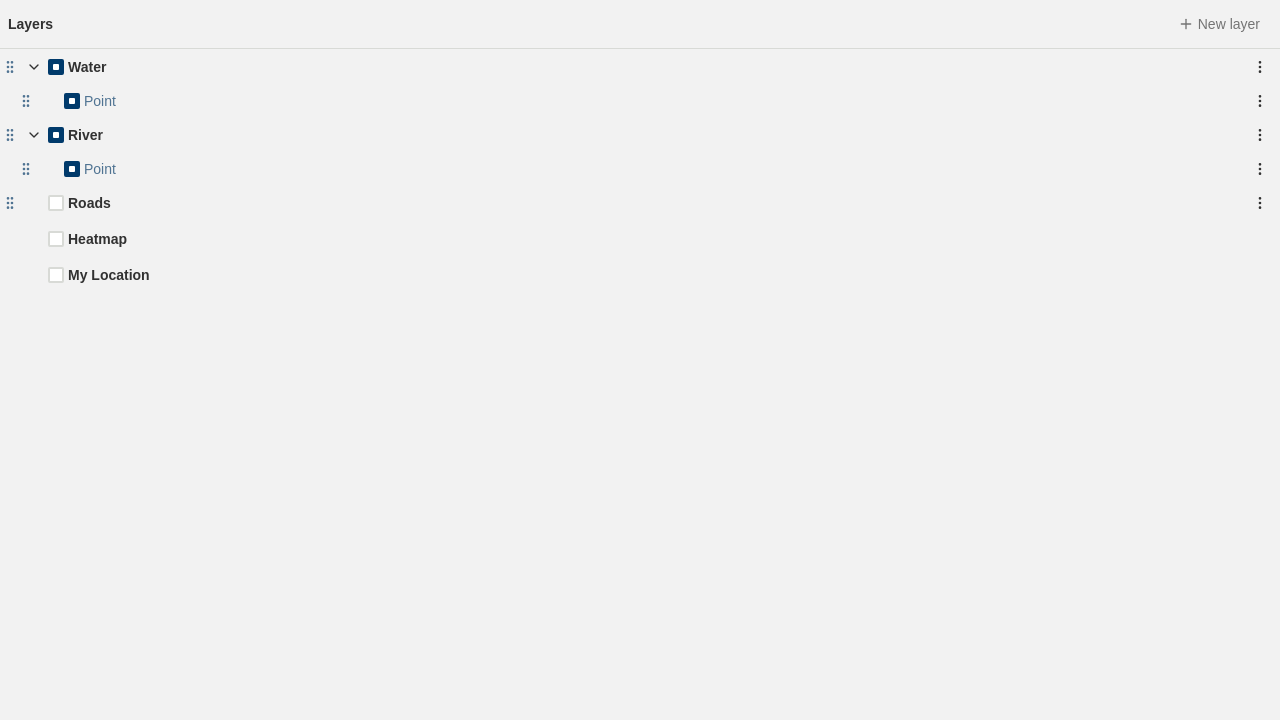
it: LayerTreePanel › excludes every layer the feature already belongs to from the move-to-layer picker
Click the 1st button named "feature options". click: point(1260, 101)
box: [1248,89,1272,113]
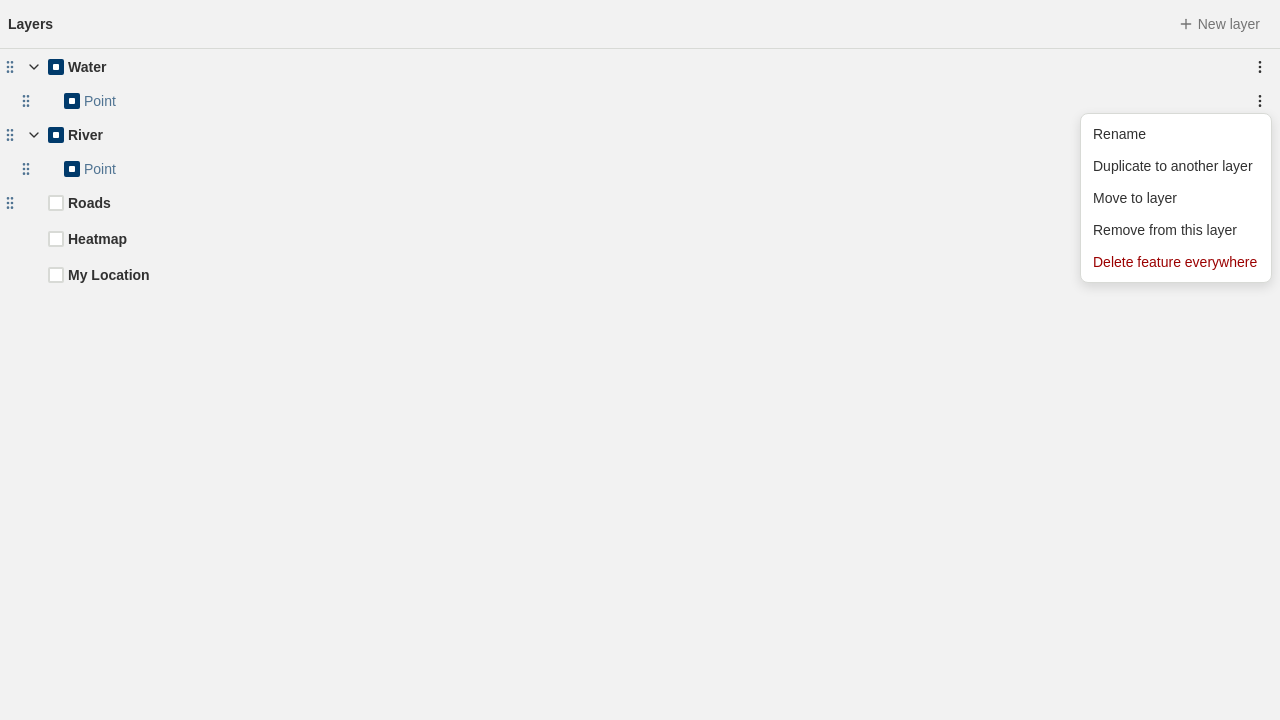
Click the menu item "Move to layer". click: point(1135, 198)
box: [1093,190,1177,206]
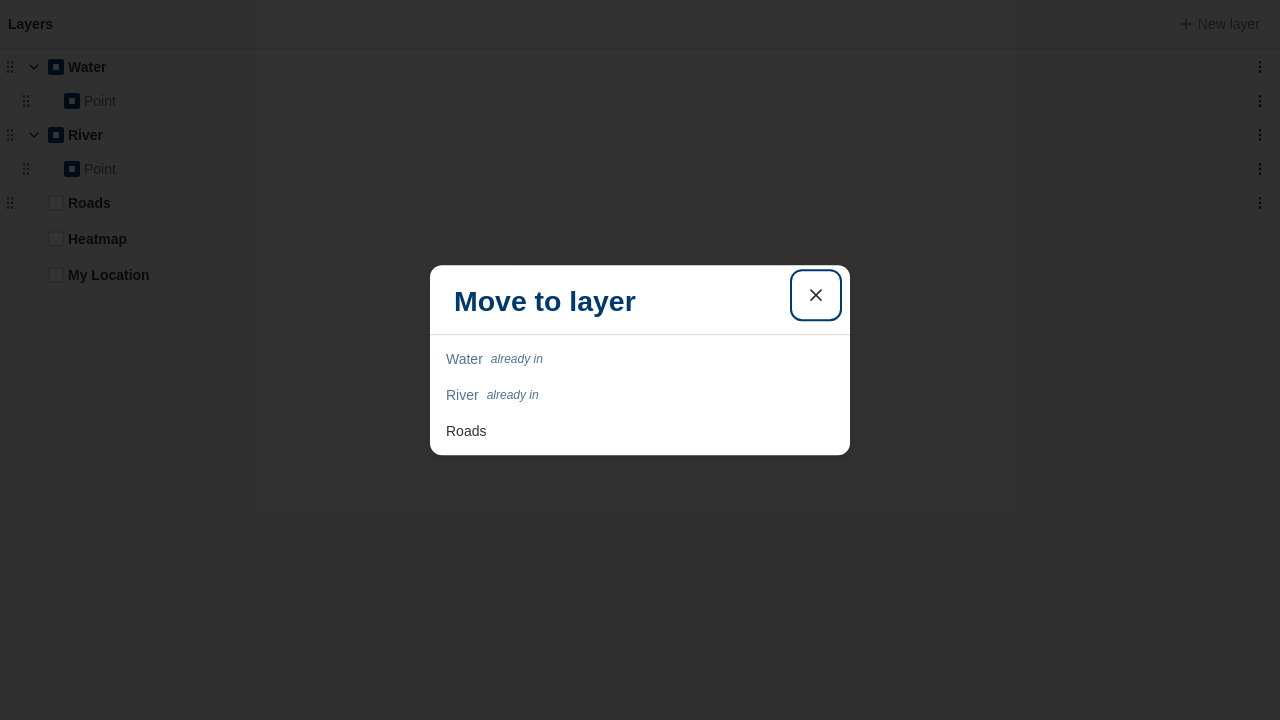
Result: the button "Roads" is shown at [438,415,842,447]
